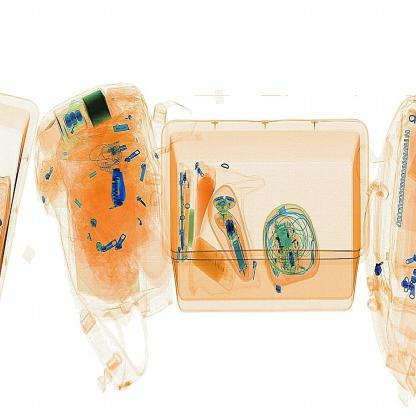scissors: (104, 159, 132, 209)
